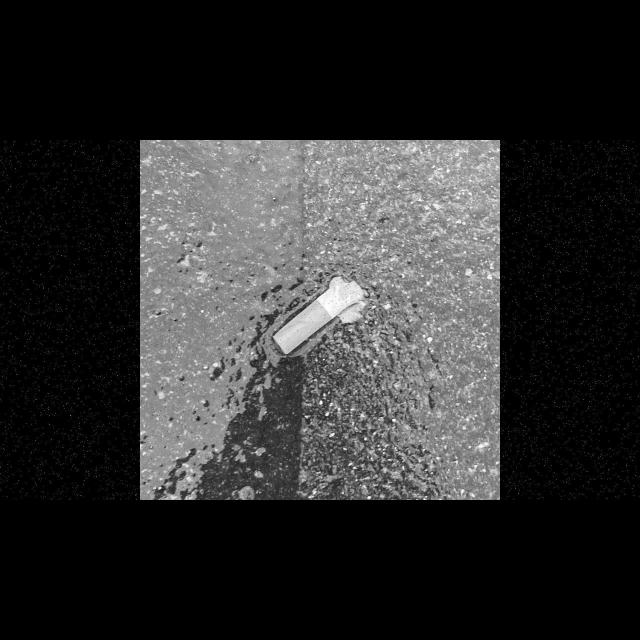cigarette: (270, 275, 366, 355)
